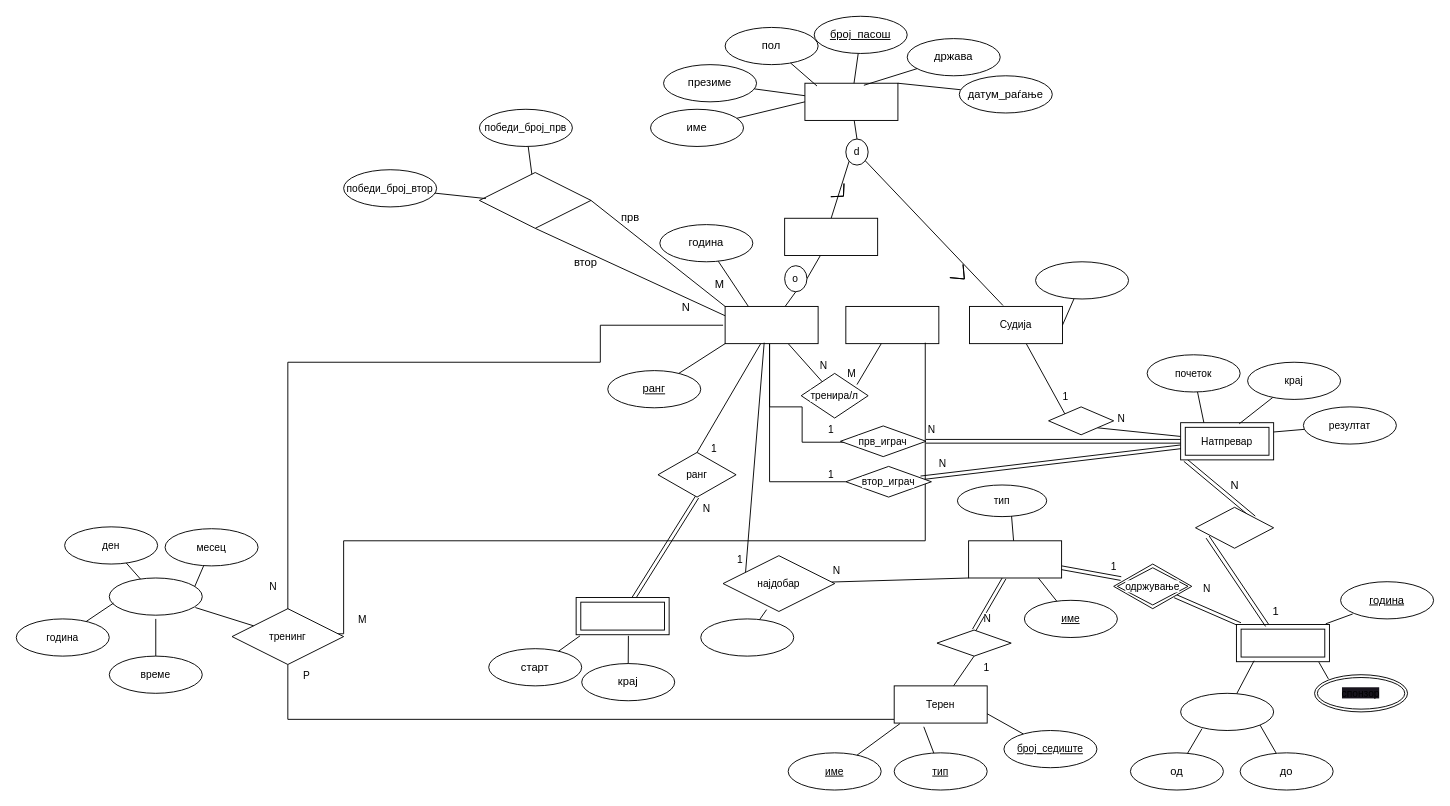
This 1450x806 diagram has some shape labels left out. Here are the shapes that lost their labels. From the top down, the centre of each, then its label:
the point at 851,101: Учесник
the point at 534,200: игра
the point at 831,236: Тренер-Играч
the point at 1082,280: искуство_години
the point at 771,325: Играч
the point at 892,325: Тренер
the point at 1081,420: судел
the point at 1234,527: се_одржува
the point at 1015,559: Турнир
the point at 155,596: датум
the point at 622,616: Ранг_место
the point at 747,637: број_победи
the point at 973,642: одржува
the point at 1282,643: Одржан_турнир
the point at 1227,711: период
